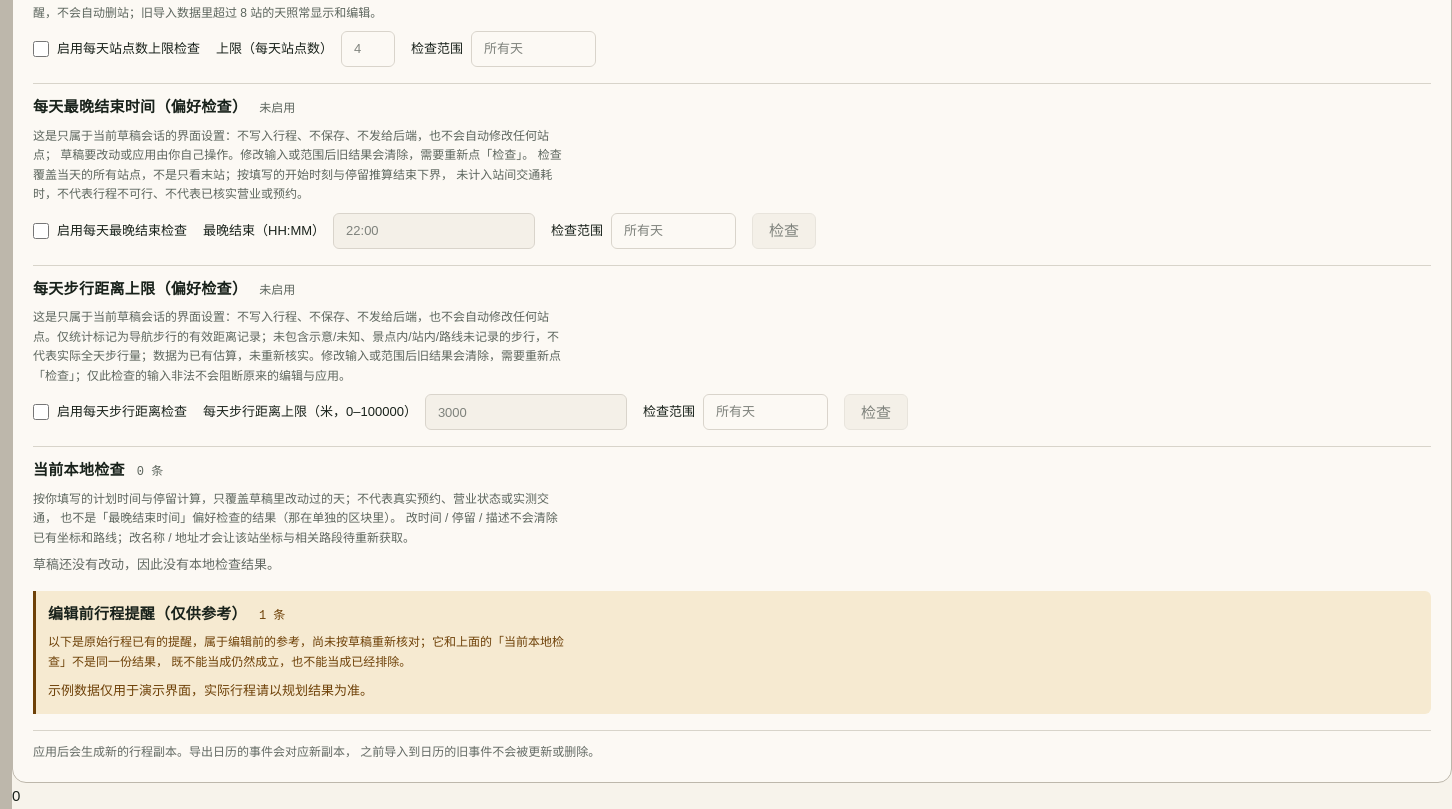
Scenario: 步行距离检查：输入 / 范围 / 开关变化与结果失效 › 修改输入或范围立即清除旧结果；重新检查按新设置出结论
(page scrolled)
Click the checkbox labelled "启用每天步行距离检查" at (41, 412), box [33,404,49,420]
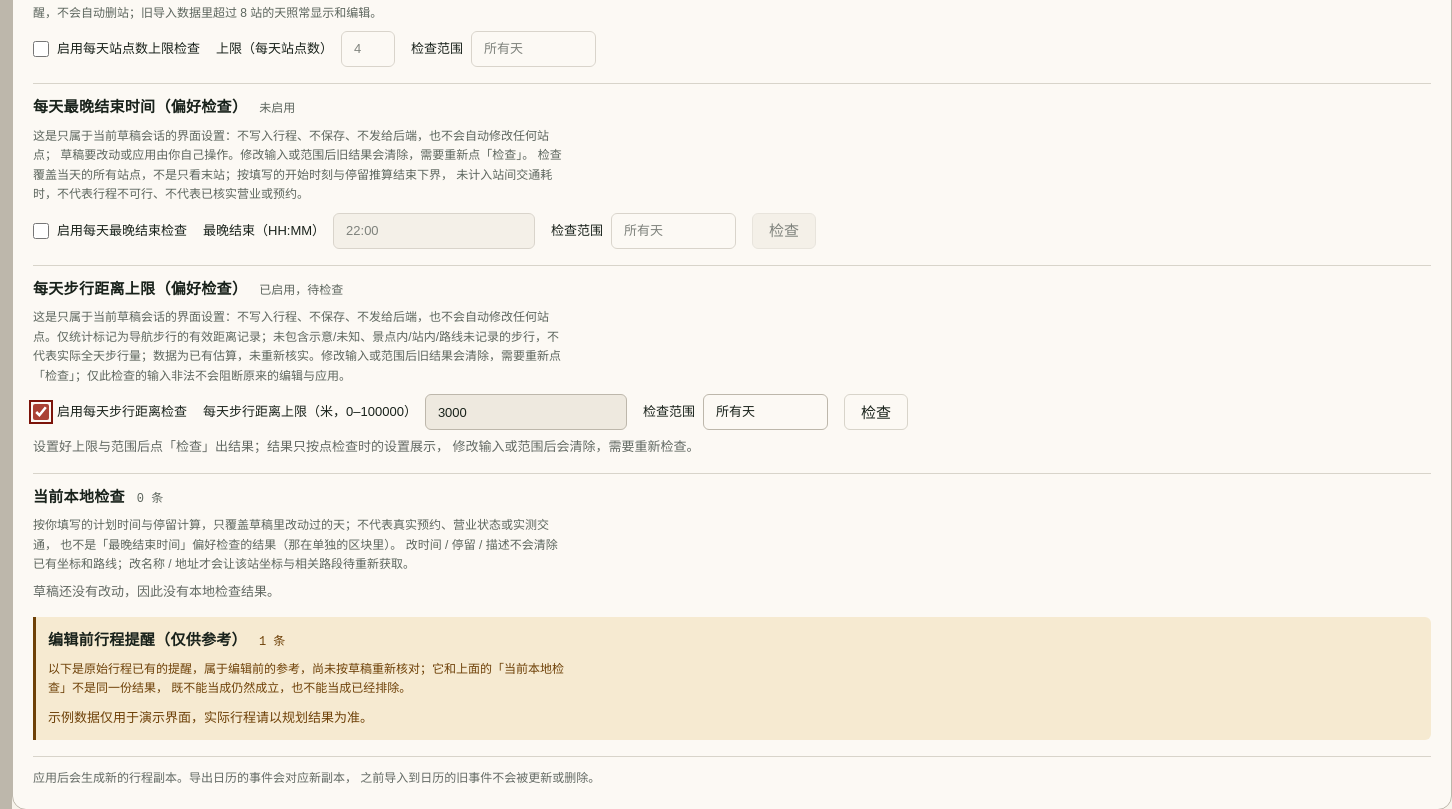
Click the button "检查" in the row of "100000" at (876, 412), box [844,394,908,430]
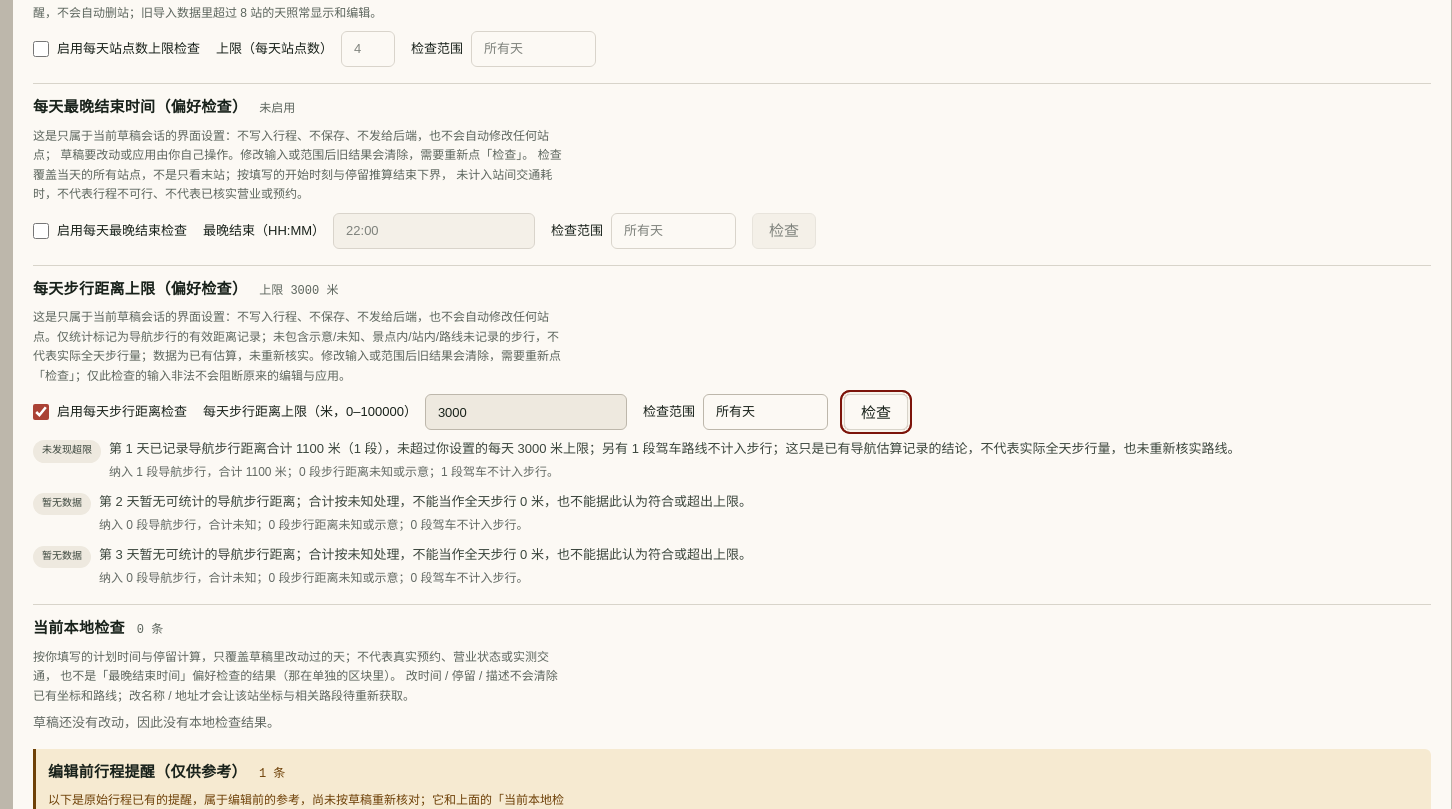
Now the text "合计 1100 米" is shown, box [206,466,287,480]
Replace the text in the field labelled "每天步行距离上限" with "500" at (526, 412), box [425,394,627,430]
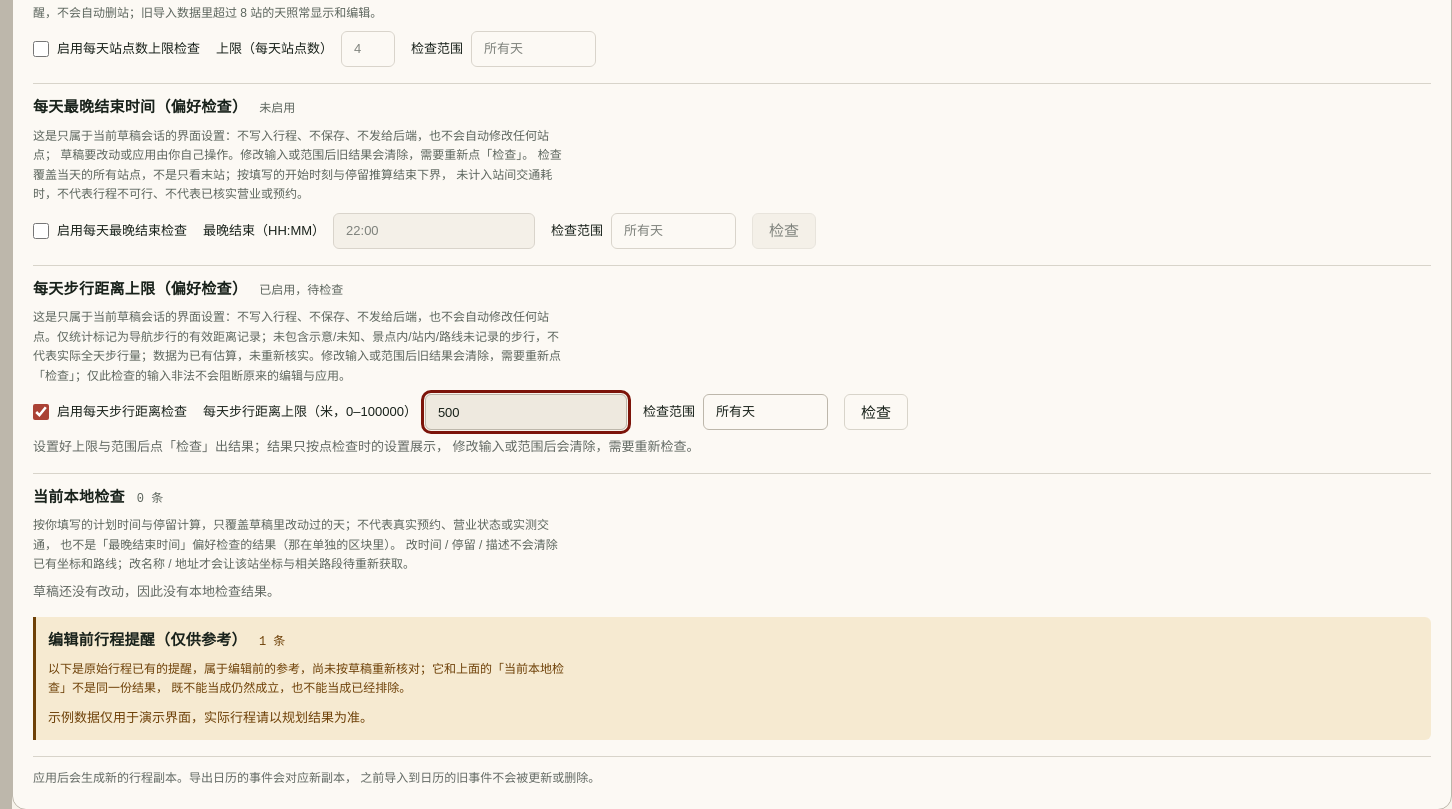
Expected: the text "合计 1100 米" is not shown
Now the text "已启用，待检查" is shown, box [259,283,343,299]
Click the button "检查" in the row of "100000" at (876, 412), box [844,394,908,430]
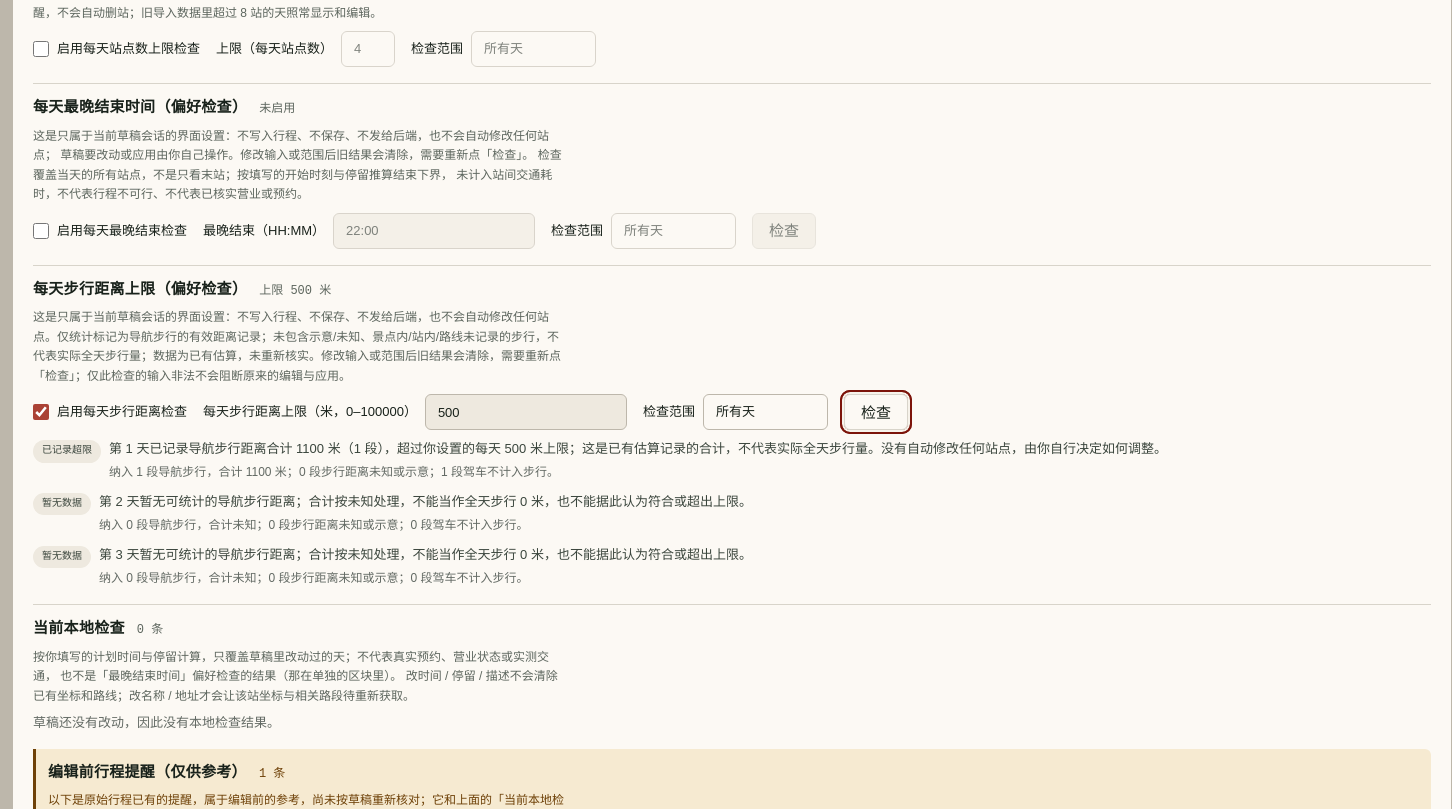
Now the text "已记录超限" is shown, box [33,440,101,463]
Select "仅改动过的天" in the dropdown named "步行距离检查范围" at (765, 412), box [703,394,828,430]
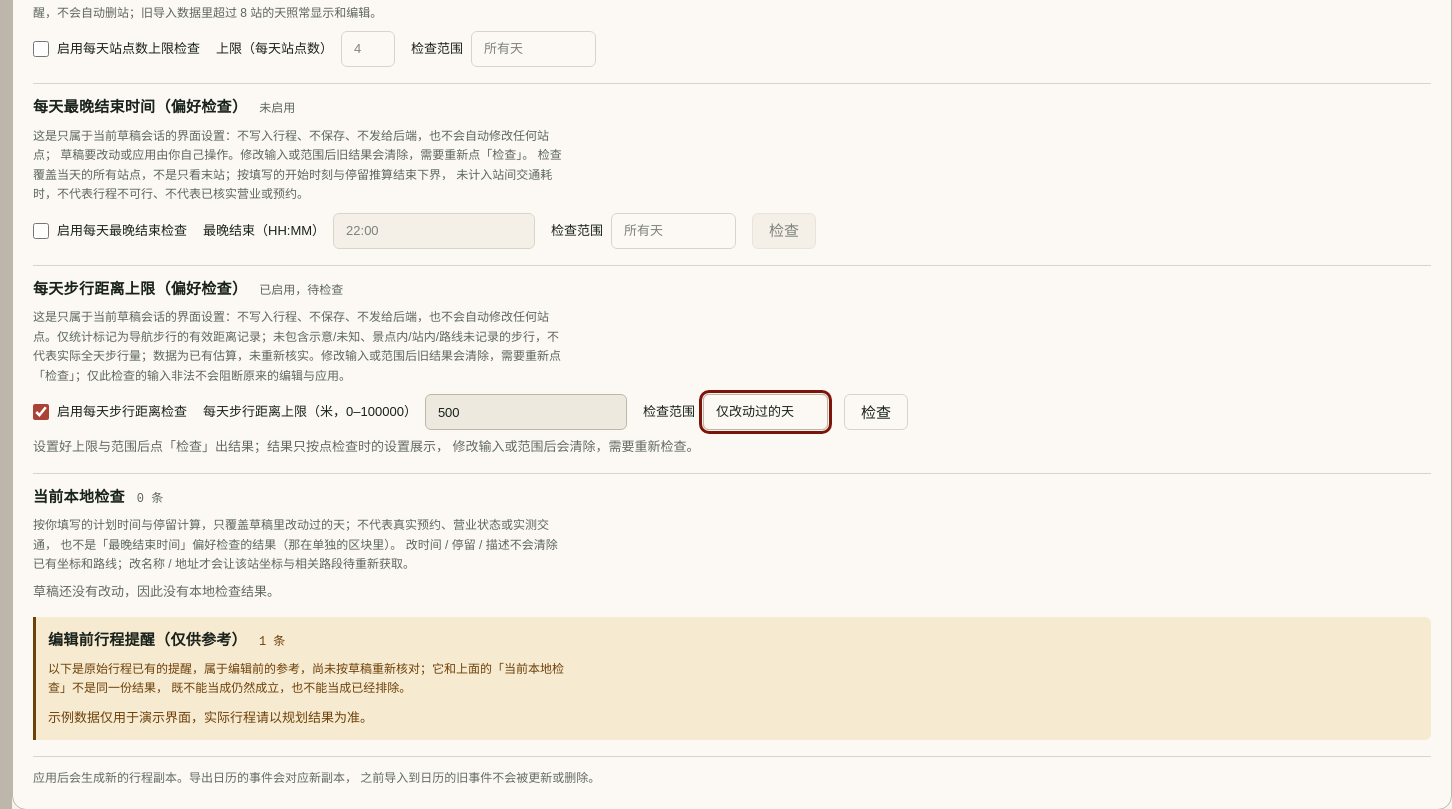
Now the text "已记录超限" is gone
